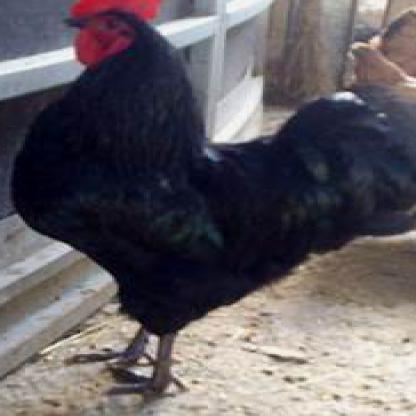chicken: (9, 0, 415, 398)
